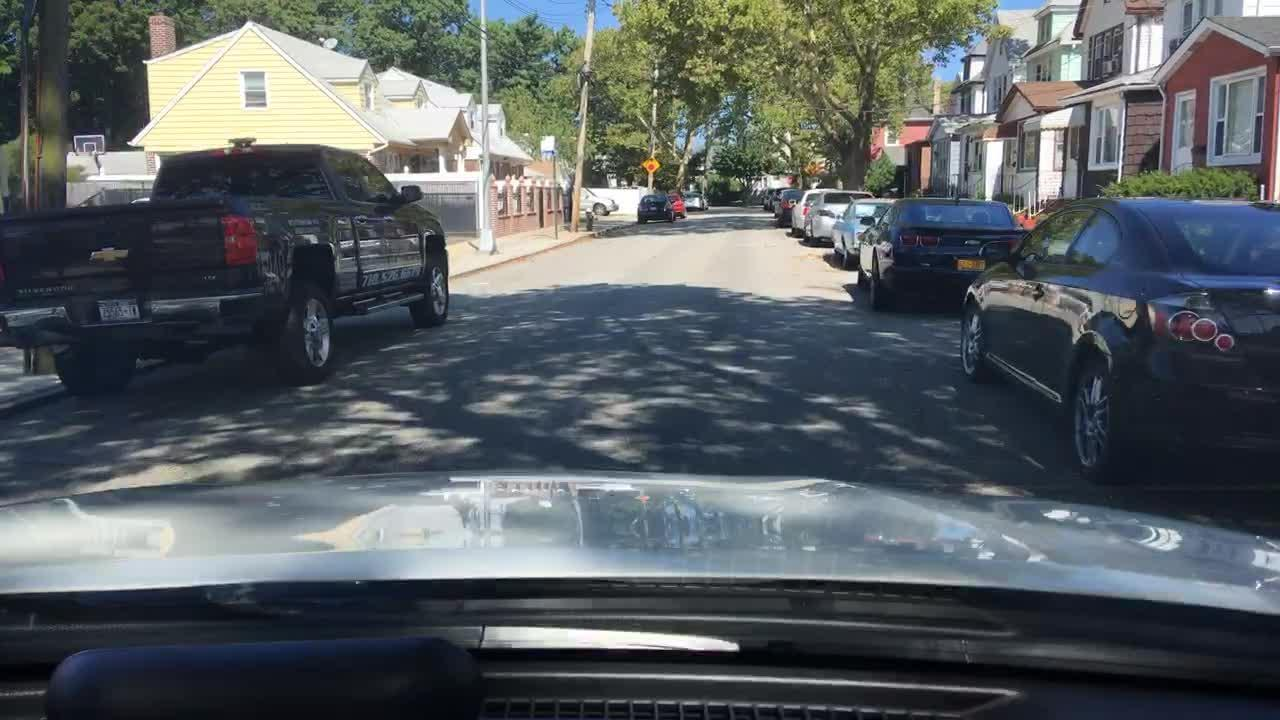chevrolet: (83, 239, 130, 269)
